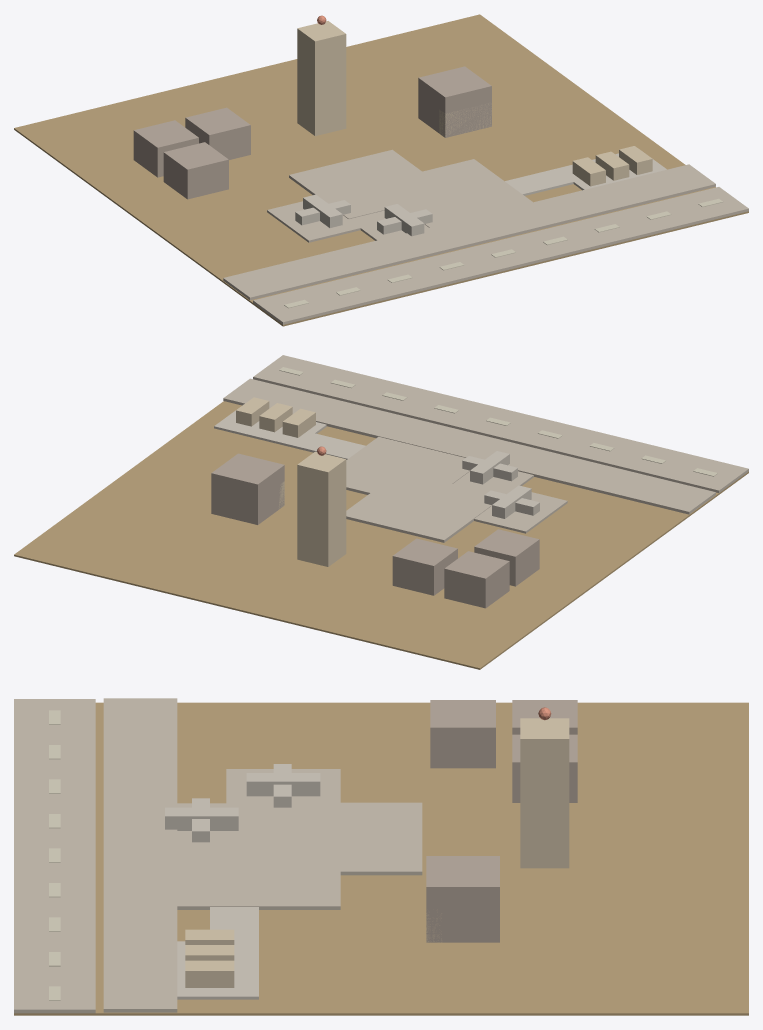
The model's file is stage_12.glb.
The picture shows the model from 3 angles, top to bottom: view 1: azimuth 30°, elevation 25°; view 2: azimuth 150°, elevation 25°; view 3: azimuth 270°, elevation 25°; orthographic projection. The views are drawn at different scales.
Visible parts, largest first — view 1: geometry_0; view 2: geometry_0; view 3: geometry_0.
Part boxes in pixels (left/top/right/bottom): geometry_0: left=14, top=14, right=748, bottom=326; geometry_0: left=14, top=355, right=748, bottom=669; geometry_0: left=14, top=698, right=748, bottom=1015.
Bounding box in the file's own units: 9 × 2.06 × 9.
